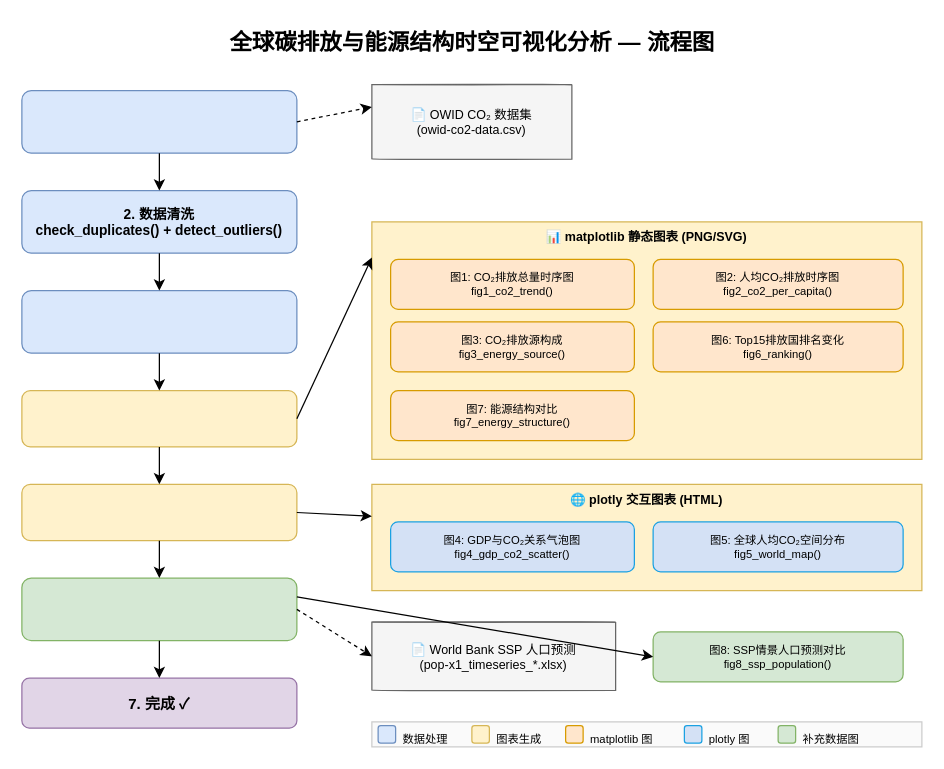
Some shapes in this 944 by 769 pixel diagram are drawn without their labels. Here are the shapes that lost their labels. From the top down, the centre of each, then its label:
At point (159, 121): "1. 加载数据 load_owid_data() → classify_locations()".
At point (159, 321): "3. 特征构建 clean_country_data() → build_features()".
At point (159, 418): "4. 生成 matplotlib 静态图表".
At point (159, 512): "5. 生成 plotly 交互图表".
At point (159, 609): "6. 处理 World Bank 气候风险数据 load_worldbank_data()".
